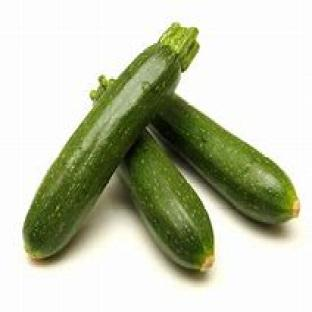Zucchini: (24, 25, 198, 258), (154, 96, 300, 223), (121, 130, 213, 270)
